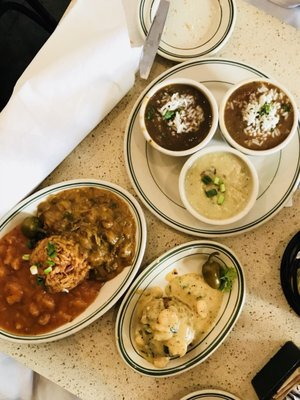sandwich: (137, 0, 170, 79)
sushi: (0, 179, 147, 344), (115, 240, 246, 376), (178, 148, 260, 226), (141, 79, 219, 158), (218, 79, 298, 156)
